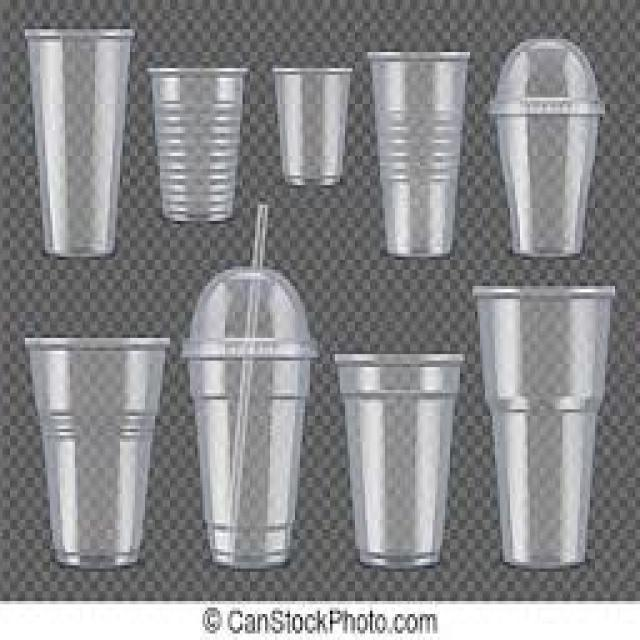Plastico descartable: (184, 205, 318, 568), (474, 286, 615, 568), (27, 339, 169, 567), (337, 355, 464, 568), (25, 29, 134, 256), (491, 39, 604, 256), (369, 52, 470, 256), (148, 69, 246, 221), (274, 68, 352, 185)
